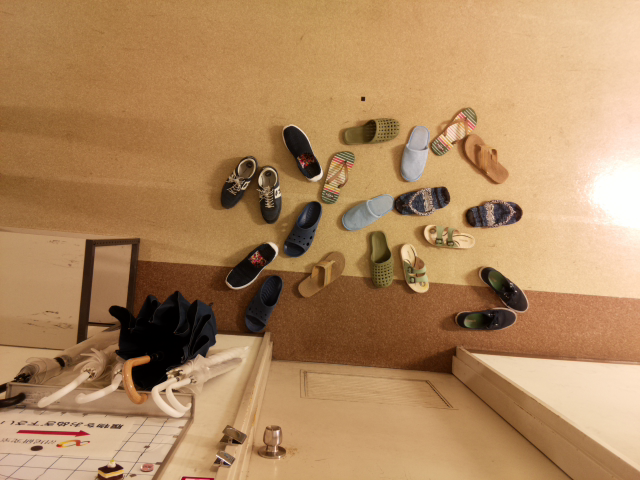Copy of Copy of Copy of Copy of Copy of Copy of Copy of sandal: (399, 242, 429, 293)
Copy of Copy of Copy of Copy of Copy of Copy of sandal: (422, 223, 476, 249)
Copy of Copy of Copy of Copy of Copy of sandal: (464, 198, 522, 228)
Copy of Copy of Copy of Copy of Copy of shoe: (454, 307, 517, 331)
Copy of Copy of Copy of Copy of Copy of slipper: (399, 124, 429, 182)
Copy of Copy of Copy of Copy of sandal: (320, 150, 356, 205)
Copy of Copy of Copy of Copy of shoe: (478, 264, 529, 314)
Copy of Copy of Copy of Copy of slipper: (340, 193, 393, 231)
Copy of Copy of Copy of sandal: (428, 106, 478, 156)
Copy of Copy of Copy of shoe: (219, 155, 257, 209)
Copy of Copy of Copy of slipper: (243, 274, 284, 332)
Copy of Copy of sandal: (463, 133, 509, 184)
Copy of Copy of shoe: (255, 165, 282, 224)
Copy of Copy of slipper: (282, 201, 321, 257)
Copy of sandal: (393, 185, 450, 216)
Copy of shoe: (281, 123, 323, 182)
Copy of slipper: (343, 116, 400, 146)
sandal: (297, 250, 346, 298)
shoe: (225, 239, 278, 291)
slipper: (369, 230, 395, 288)
